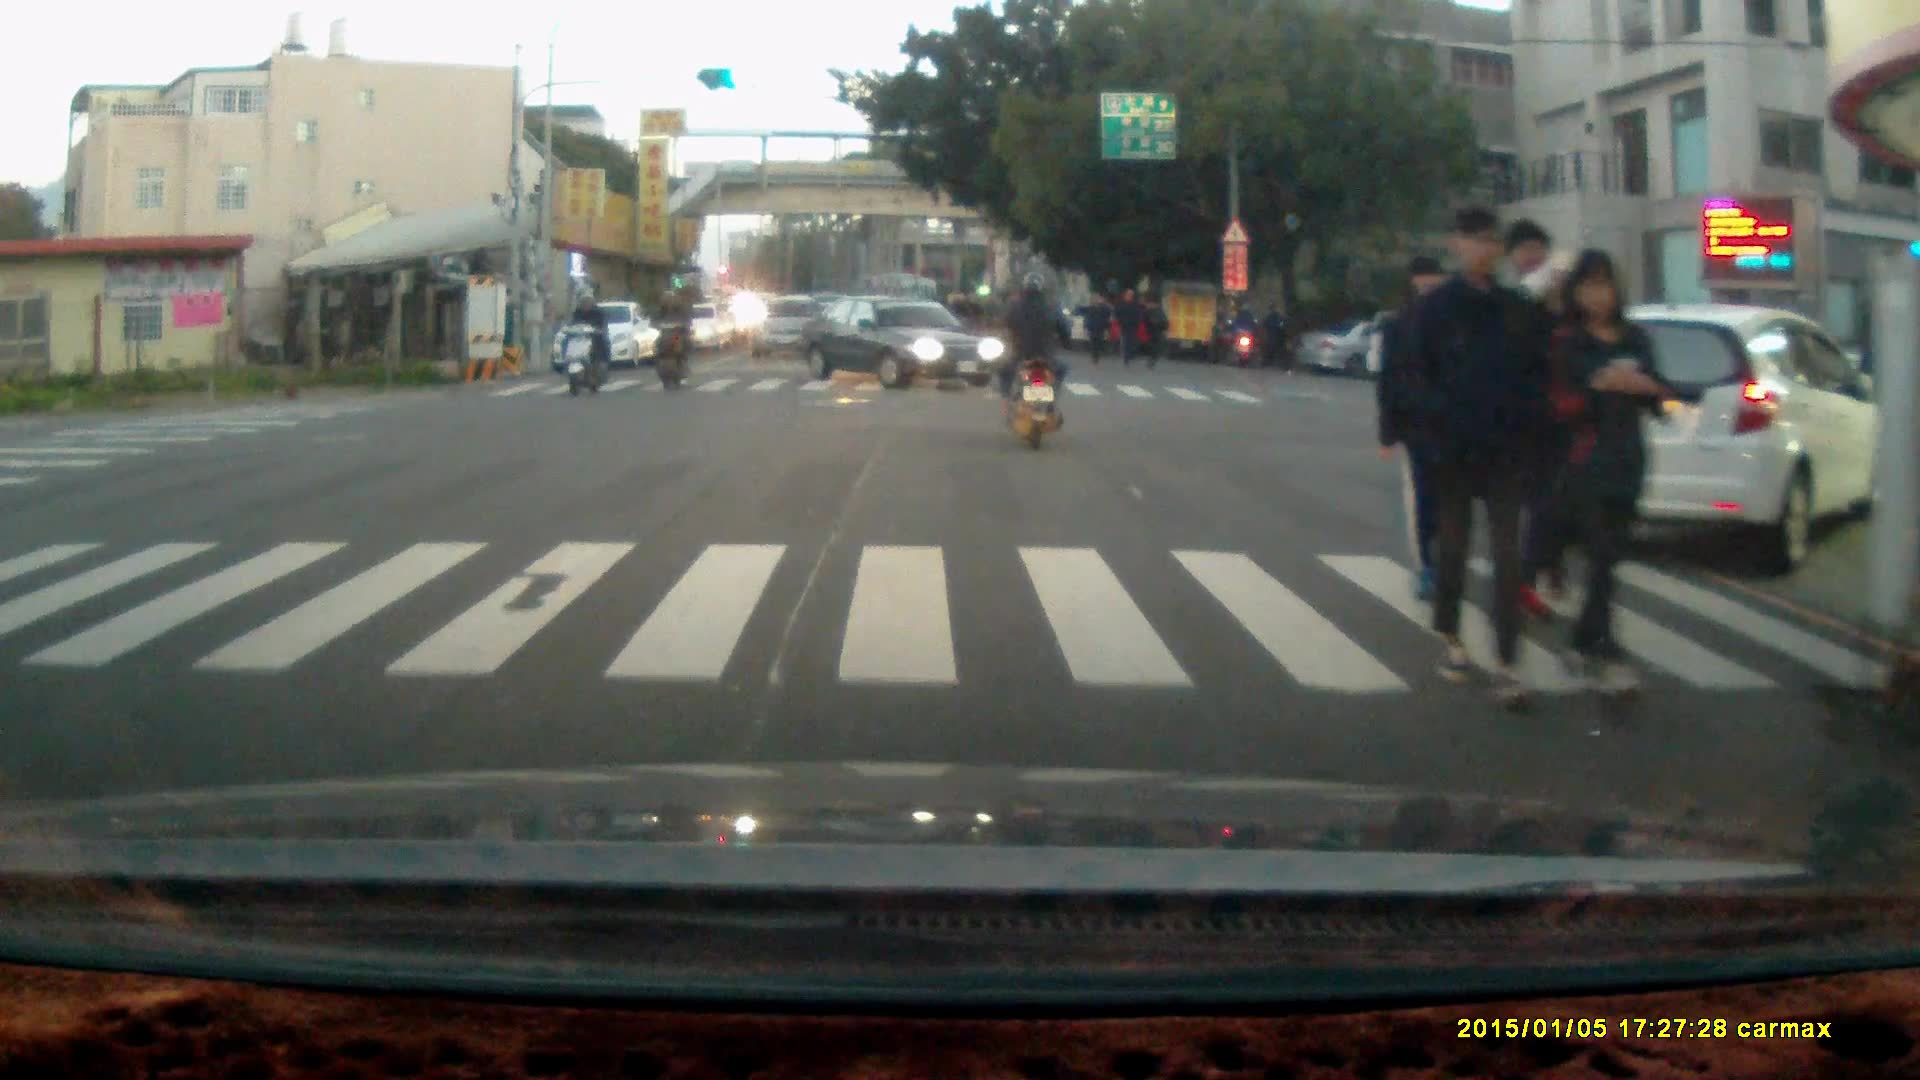pedestrian: (1396, 201, 1556, 715), (1545, 244, 1668, 716), (1110, 282, 1140, 370), (1135, 292, 1167, 371), (1080, 288, 1110, 368), (1255, 297, 1286, 374)
rider: (999, 266, 1071, 450), (560, 284, 611, 397), (644, 284, 695, 391), (1221, 300, 1260, 364)
vehicle: (1541, 301, 1908, 588), (794, 289, 1009, 389), (556, 301, 658, 372), (748, 295, 838, 364)
